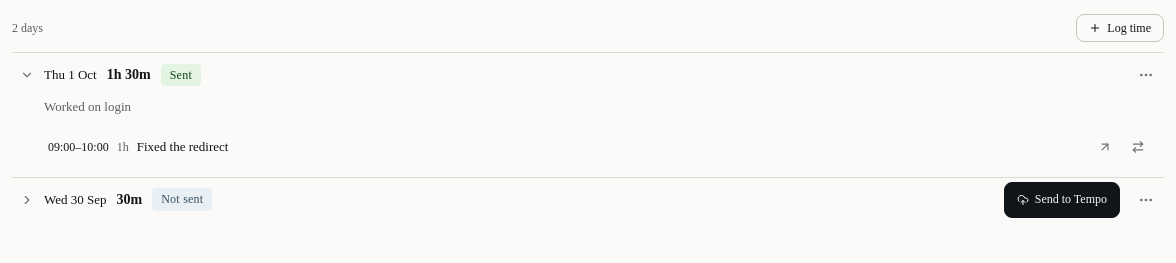
Scenario: edit the day › shows an hours save error inline
Expected: the text "2 days" is shown, left=12, top=19, right=43, bottom=37
Click the button named "More for Thu 1 Oct" at (1146,75), box left=1128, top=57, right=1164, bottom=93
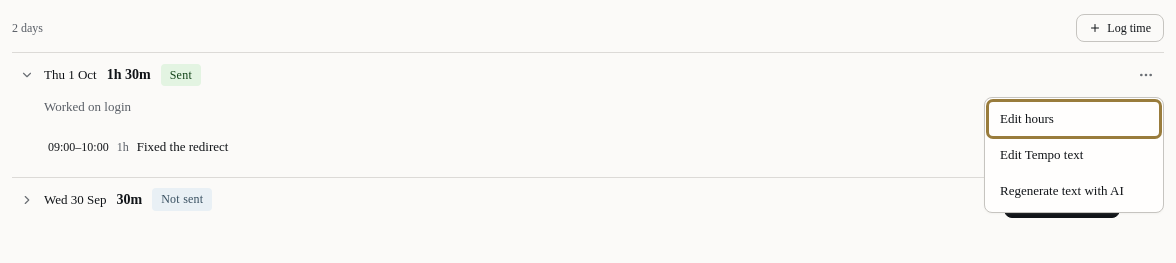
Click the menu item "Edit hours" at (1074,119), box left=989, top=102, right=1159, bottom=136
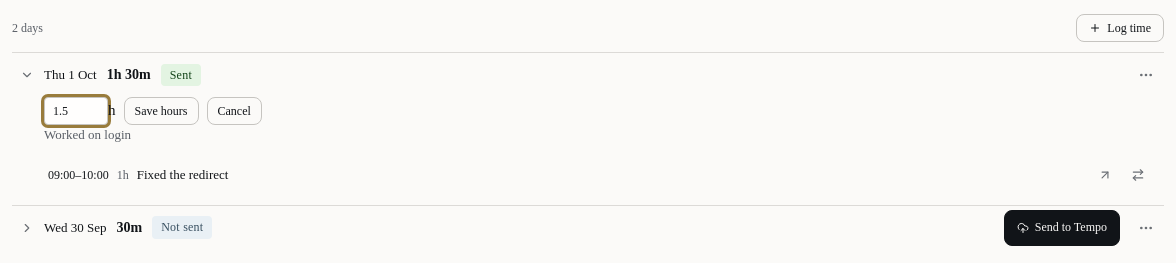
Click the button "Save hours" at (161,111), box left=124, top=97, right=198, bottom=125
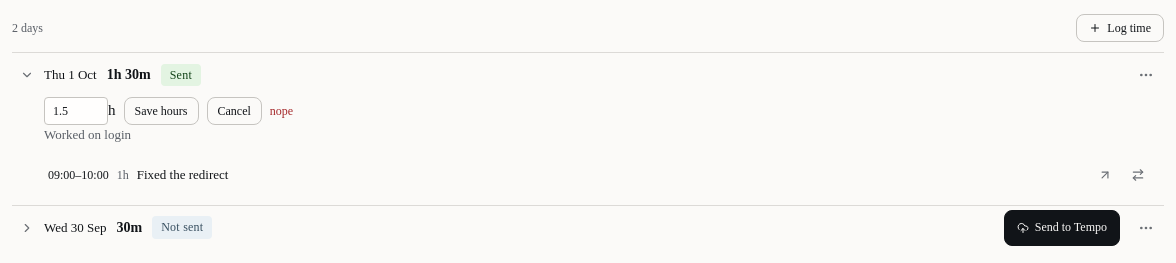
Expected: the text "nope" is shown, left=270, top=102, right=293, bottom=120
